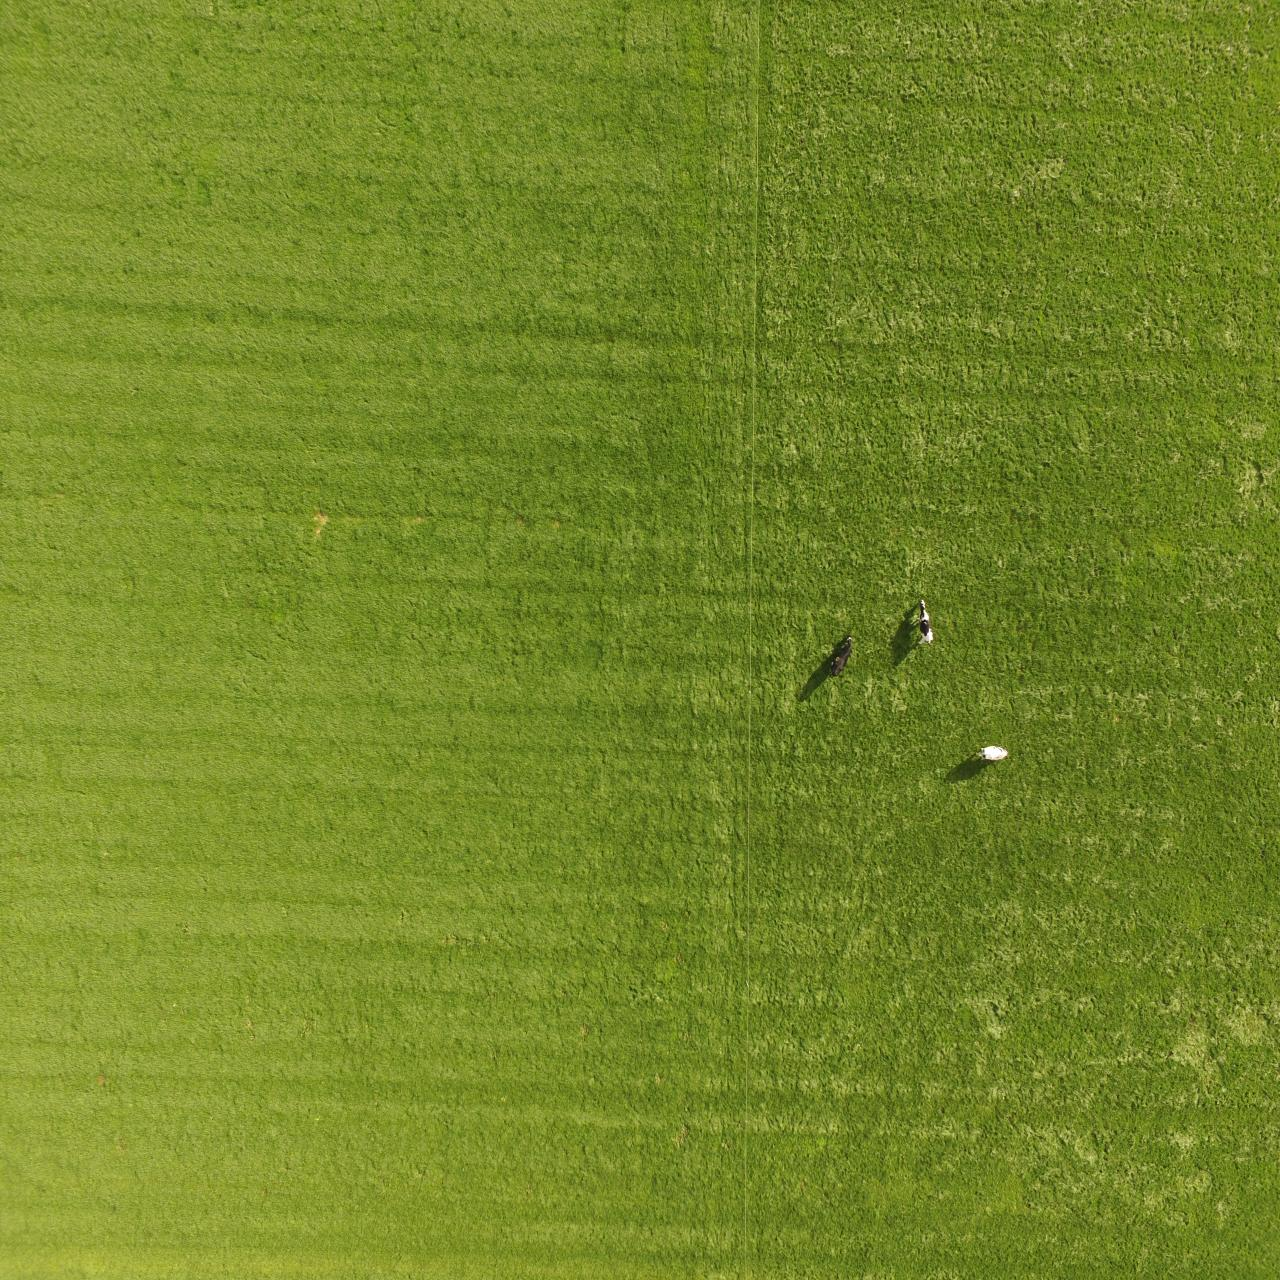cow: (829, 632, 853, 678), (915, 595, 935, 646), (973, 742, 1009, 762)
